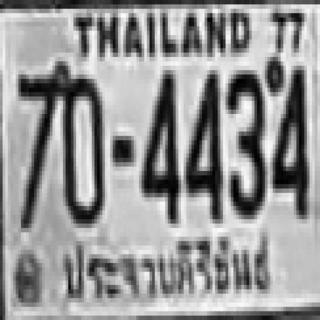N00: (60, 70, 102, 219)
N03: (226, 66, 262, 215)
N04: (139, 68, 178, 217), (270, 61, 307, 215), (184, 68, 220, 217)
N07: (16, 68, 58, 226)
P50: (59, 233, 276, 310)
